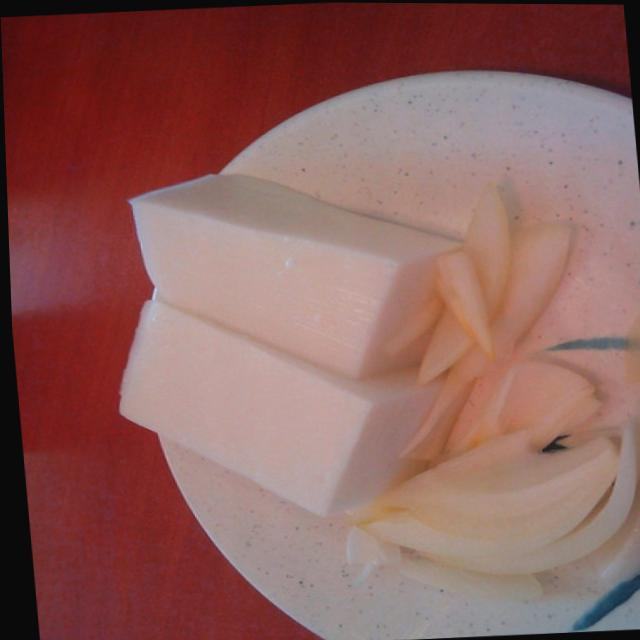蛋糕甜品: (61, 50, 640, 640)
